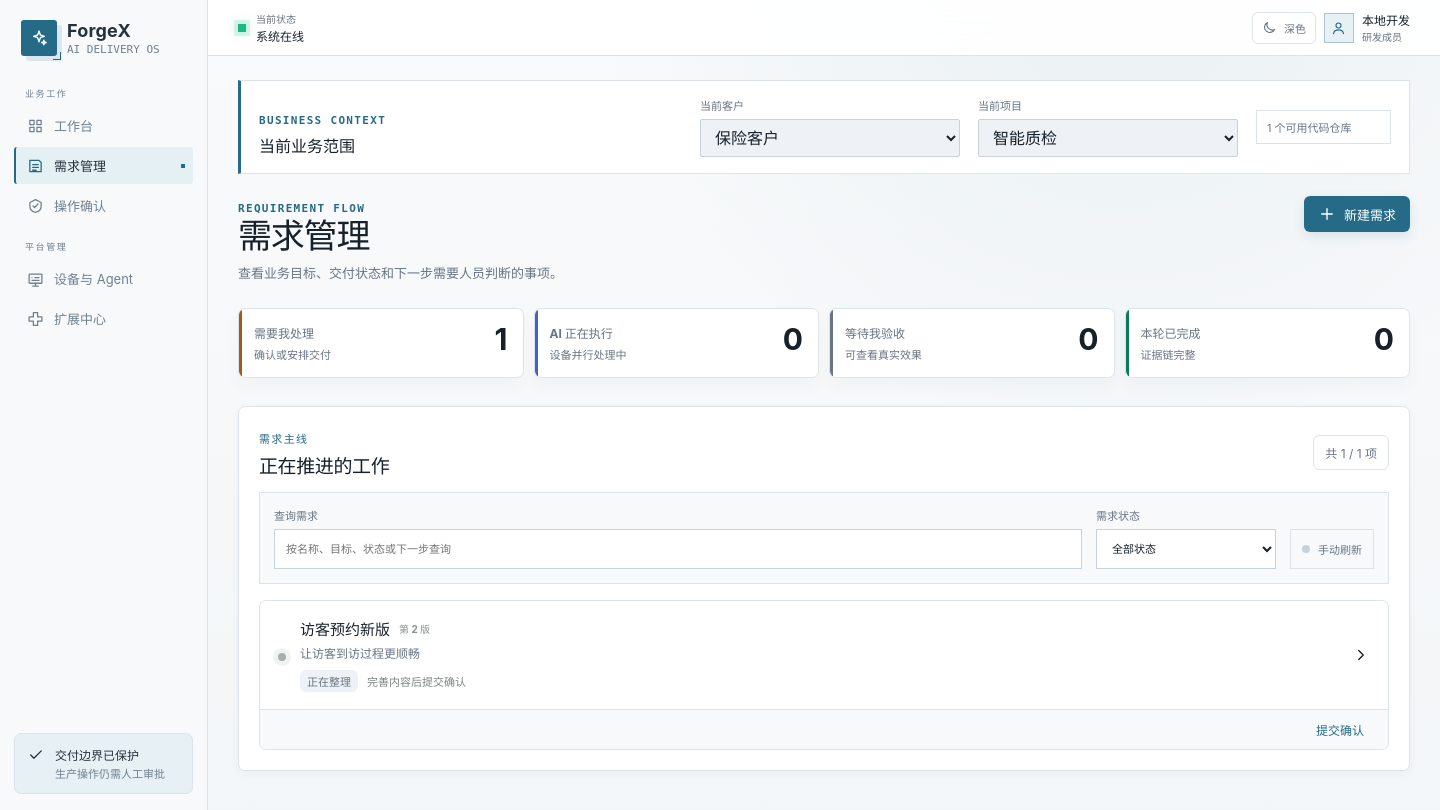
Test: RequirementWorkbench › 可展开逐版完整规格比较名称、目标和验收优先级
Click the button with aria-label "查看访客预约新版详情": click(345, 629) [260,601,1388,709]
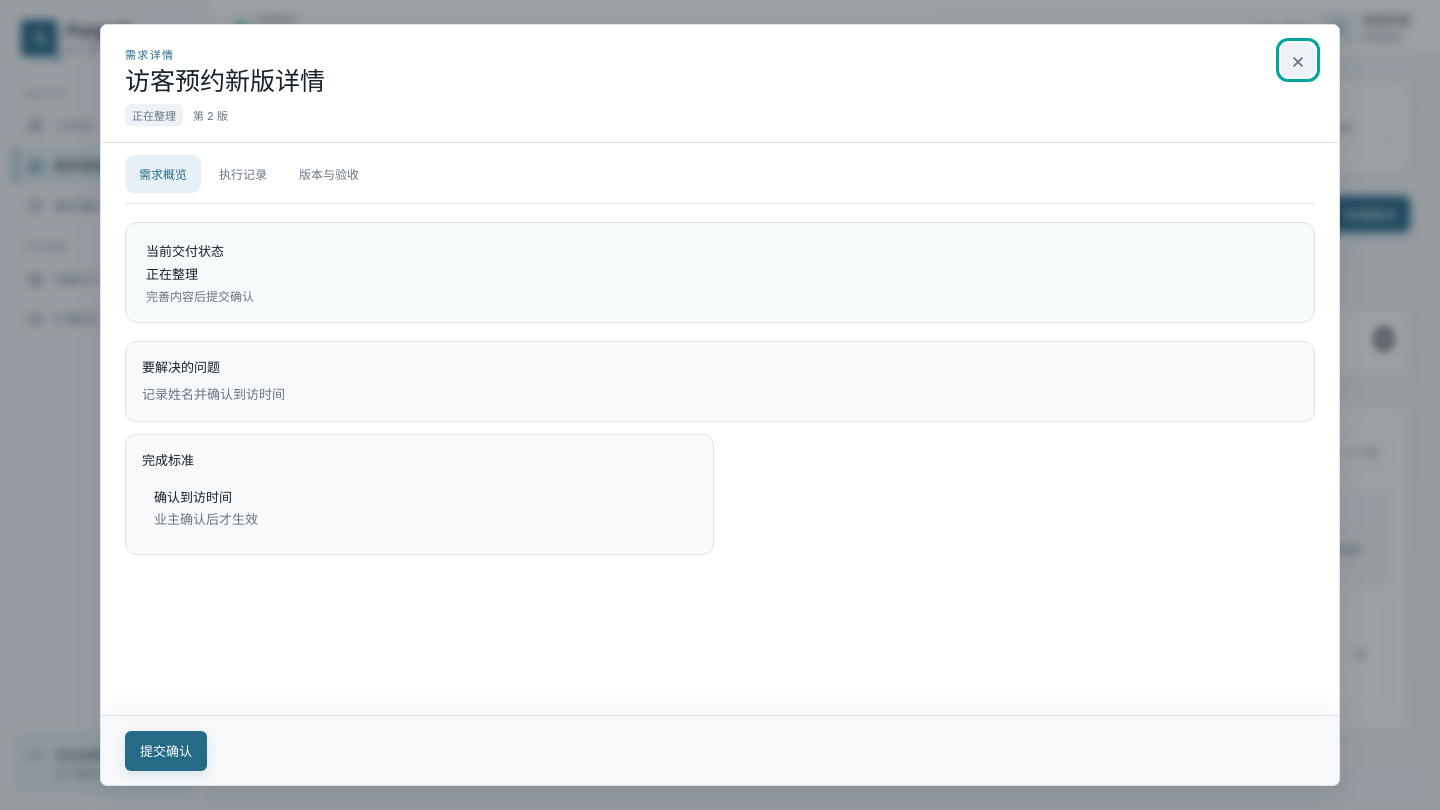
Click the tab "版本与验收": click(329, 174) [285,154,373,192]
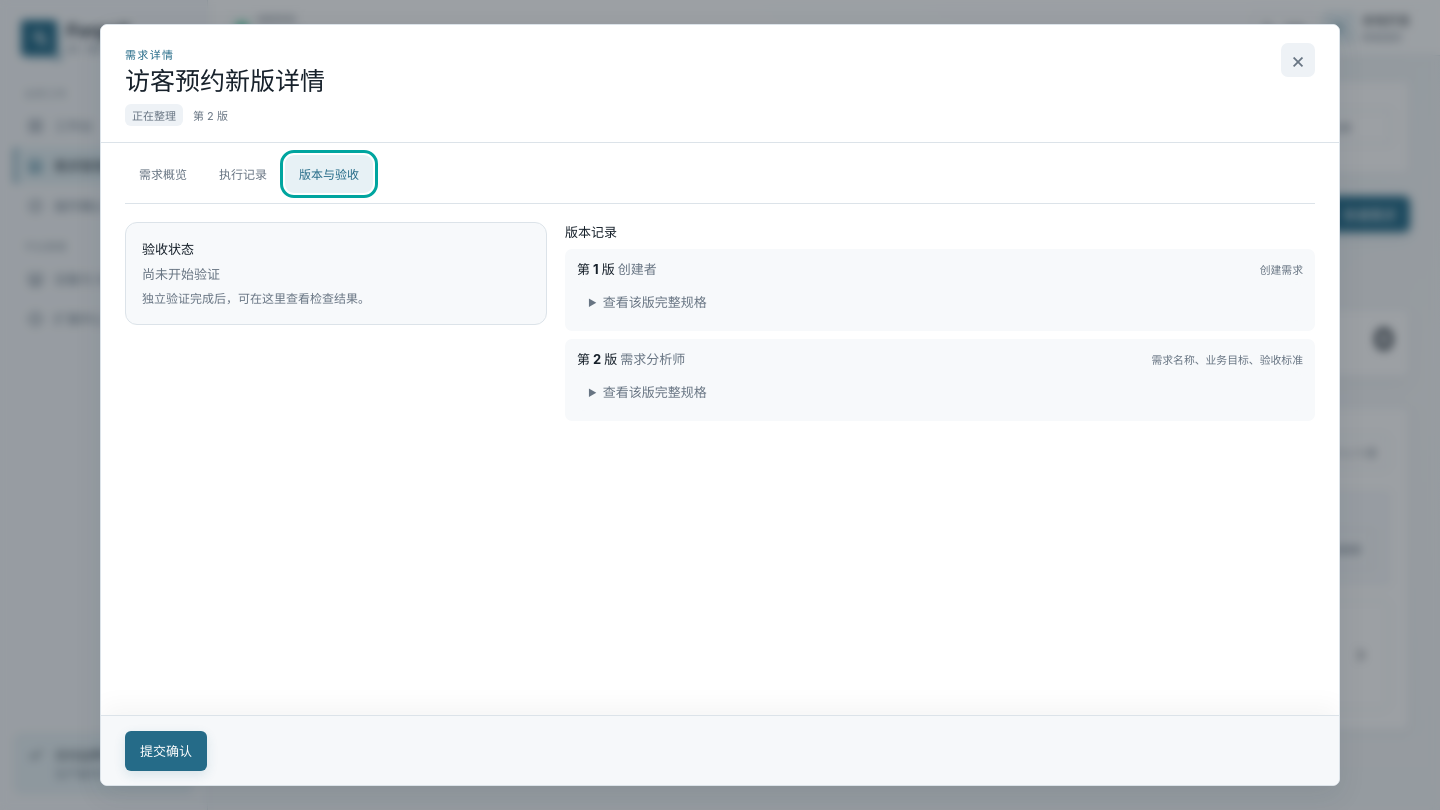
Click the heading "查看该版完整规格" below "第 1 版": click(655, 302) [603,294,707,310]
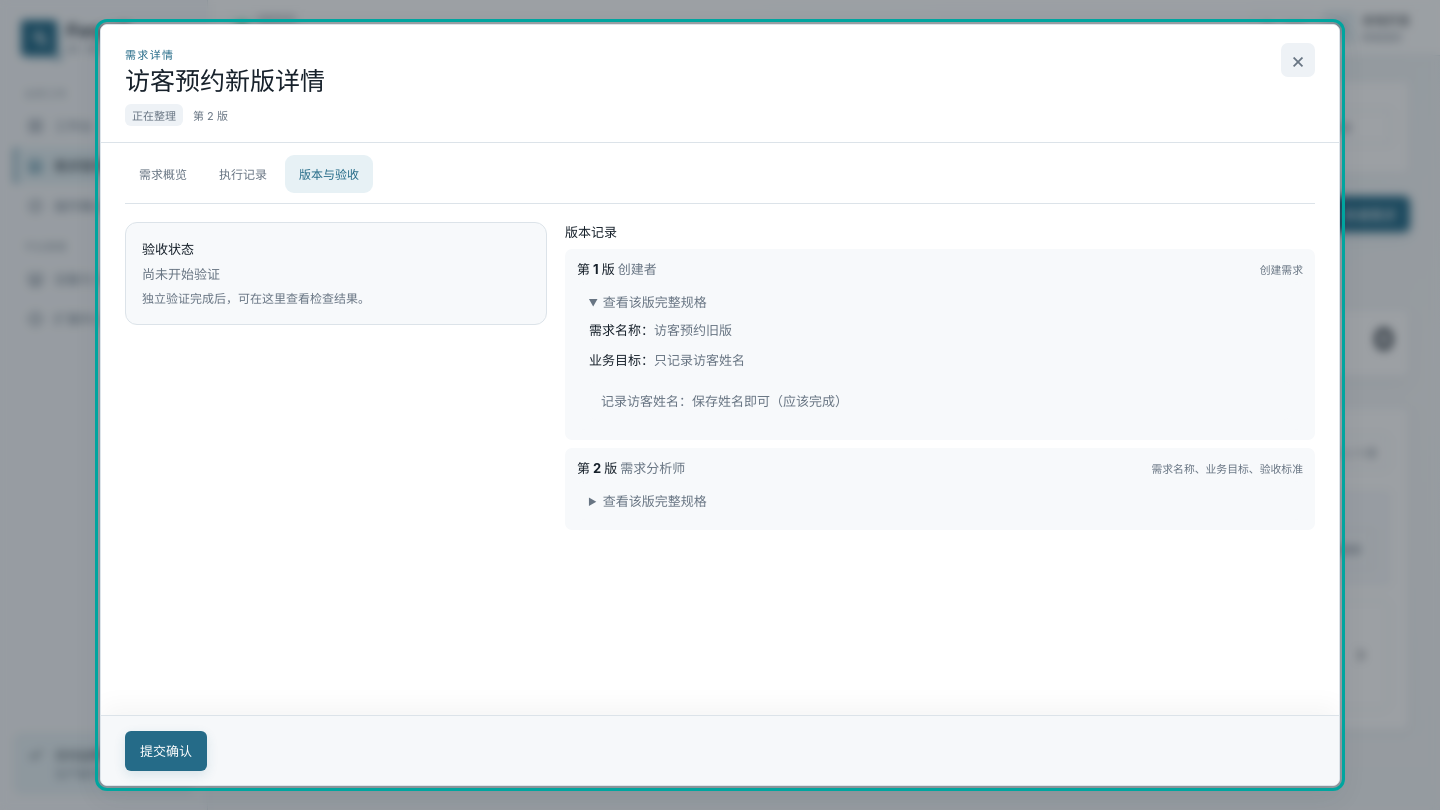
Click the heading "查看该版完整规格" below "需求分析师": click(655, 501) [603,493,707,509]
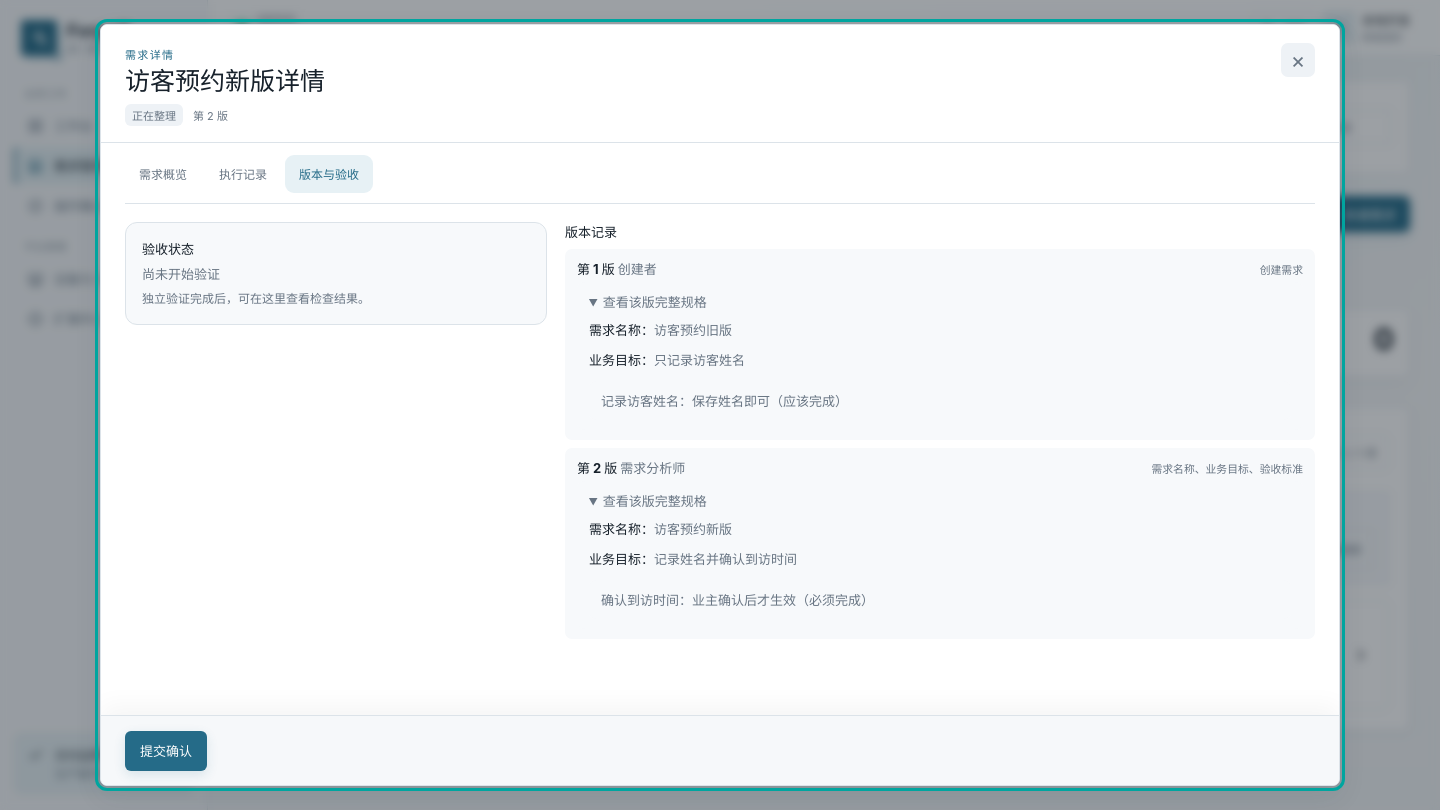
expect the text "查看该版完整规格" shows "需求名称：访客预约旧版": met, box [577,282,1303,430]
expect the text "查看该版完整规格" shows "保存姓名即可（应该完成）": met, box [577,282,1303,430]
expect the text "查看该版完整规格" shows "需求名称：访客预约新版": met, box [577,481,1303,629]
